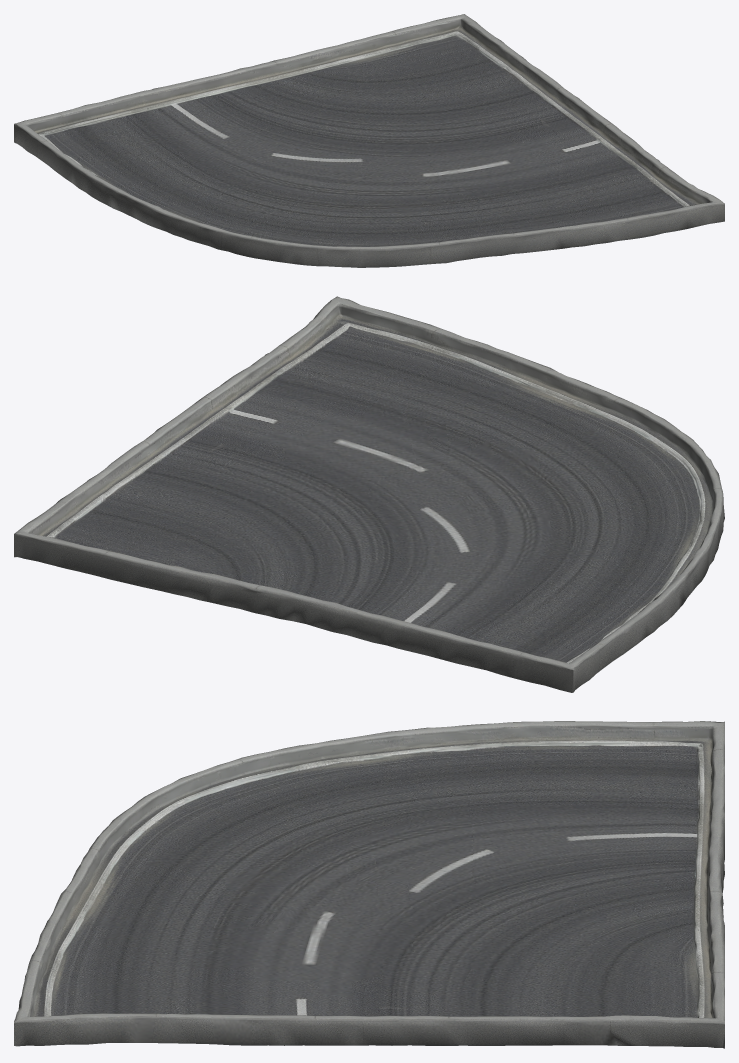
The model's file is Meshy_AI_a_road_turn_quarter_0917065230_texture.glb.
The picture shows the model from 3 angles, top to bottom: view 1: azimuth 30°, elevation 25°; view 2: azimuth 150°, elevation 25°; view 3: azimuth 270°, elevation 25°; orthographic projection. The views are drawn at different scales.
Bounding box in the file's own units: 1 × 0.0464 × 1.
1 material, 1 textured.
